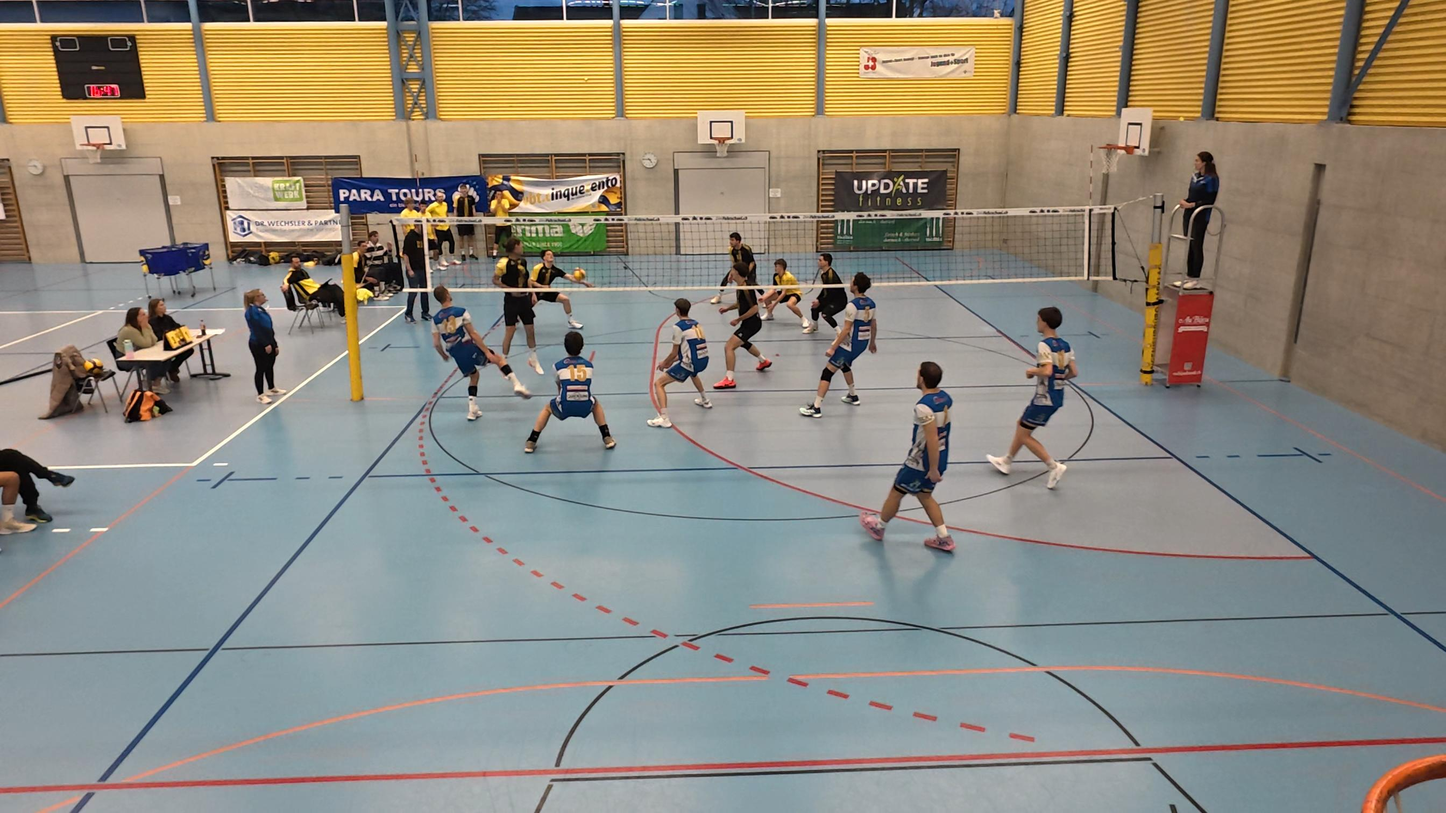difesa: (534, 247, 588, 332)
